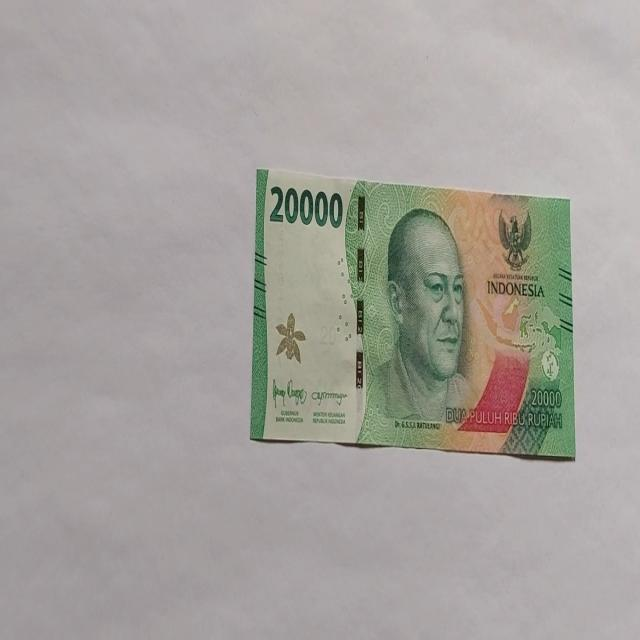dua puluh ribu rupiah: (250, 165, 576, 459), (358, 205, 476, 444)
